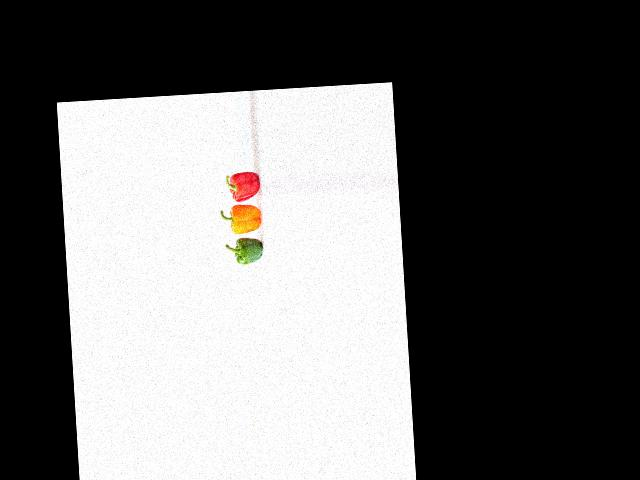bell_pepper: (218, 169, 260, 203)
